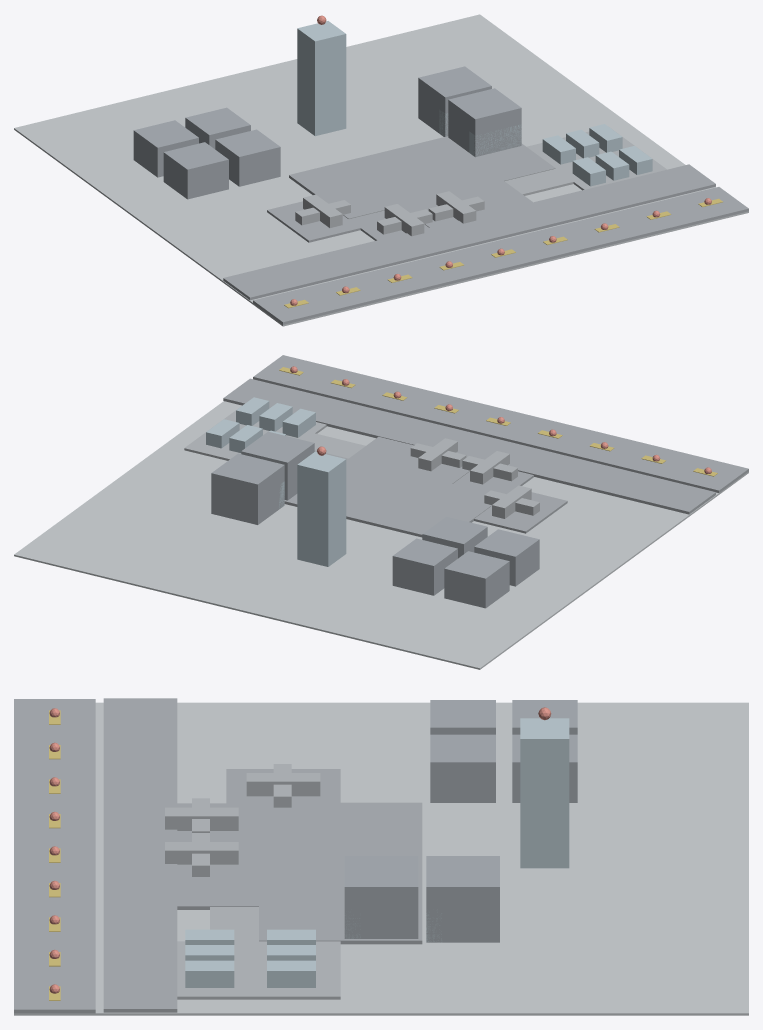
The model's file is stage_18.glb.
3 renders of one model, top to bottom at view 1: azimuth 30°, elevation 25°; view 2: azimuth 150°, elevation 25°; view 3: azimuth 270°, elevation 25°, orthographic. The views are drawn at different scales.
Parts seen in each view (by area): view 1: geometry_0; view 2: geometry_0; view 3: geometry_0.
Boxes of the visible parts, bbox=[...] form: geometry_0: bbox=[14, 14, 748, 326]; geometry_0: bbox=[14, 355, 748, 669]; geometry_0: bbox=[14, 698, 748, 1015].
Bounding box in the file's own units: 9 × 2.06 × 9.
